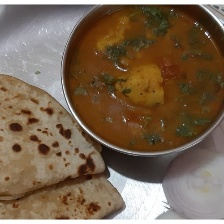sabzi: (62, 6, 224, 153)
